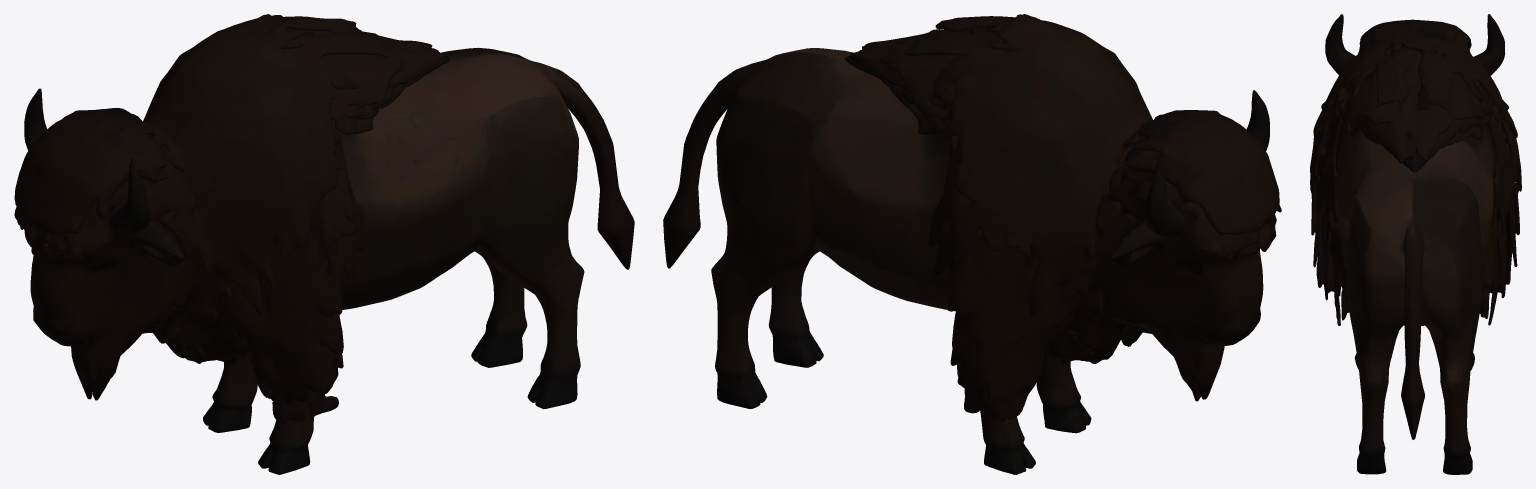
The model's file is bison-optimized.glb.
3 views of the same model, side by side, from view 1: azimuth 30°, elevation 25°; view 2: azimuth 150°, elevation 25°; view 3: azimuth 270°, elevation 25° (orthographic). The views are drawn at different scales.
Visible parts, largest first — view 1: world; view 2: world; view 3: world.
Boxes of the visible parts, left/top/right/bottom form: world: left=14, top=14, right=634, bottom=474; world: left=663, top=14, right=1281, bottom=474; world: left=1310, top=14, right=1521, bottom=474.
Bounding box in the file's own units: 1 × 0.6669 × 0.3872.
Materials: 1 (1 with a texture image).
